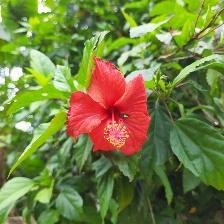hibiscus: (66, 55, 157, 161)
